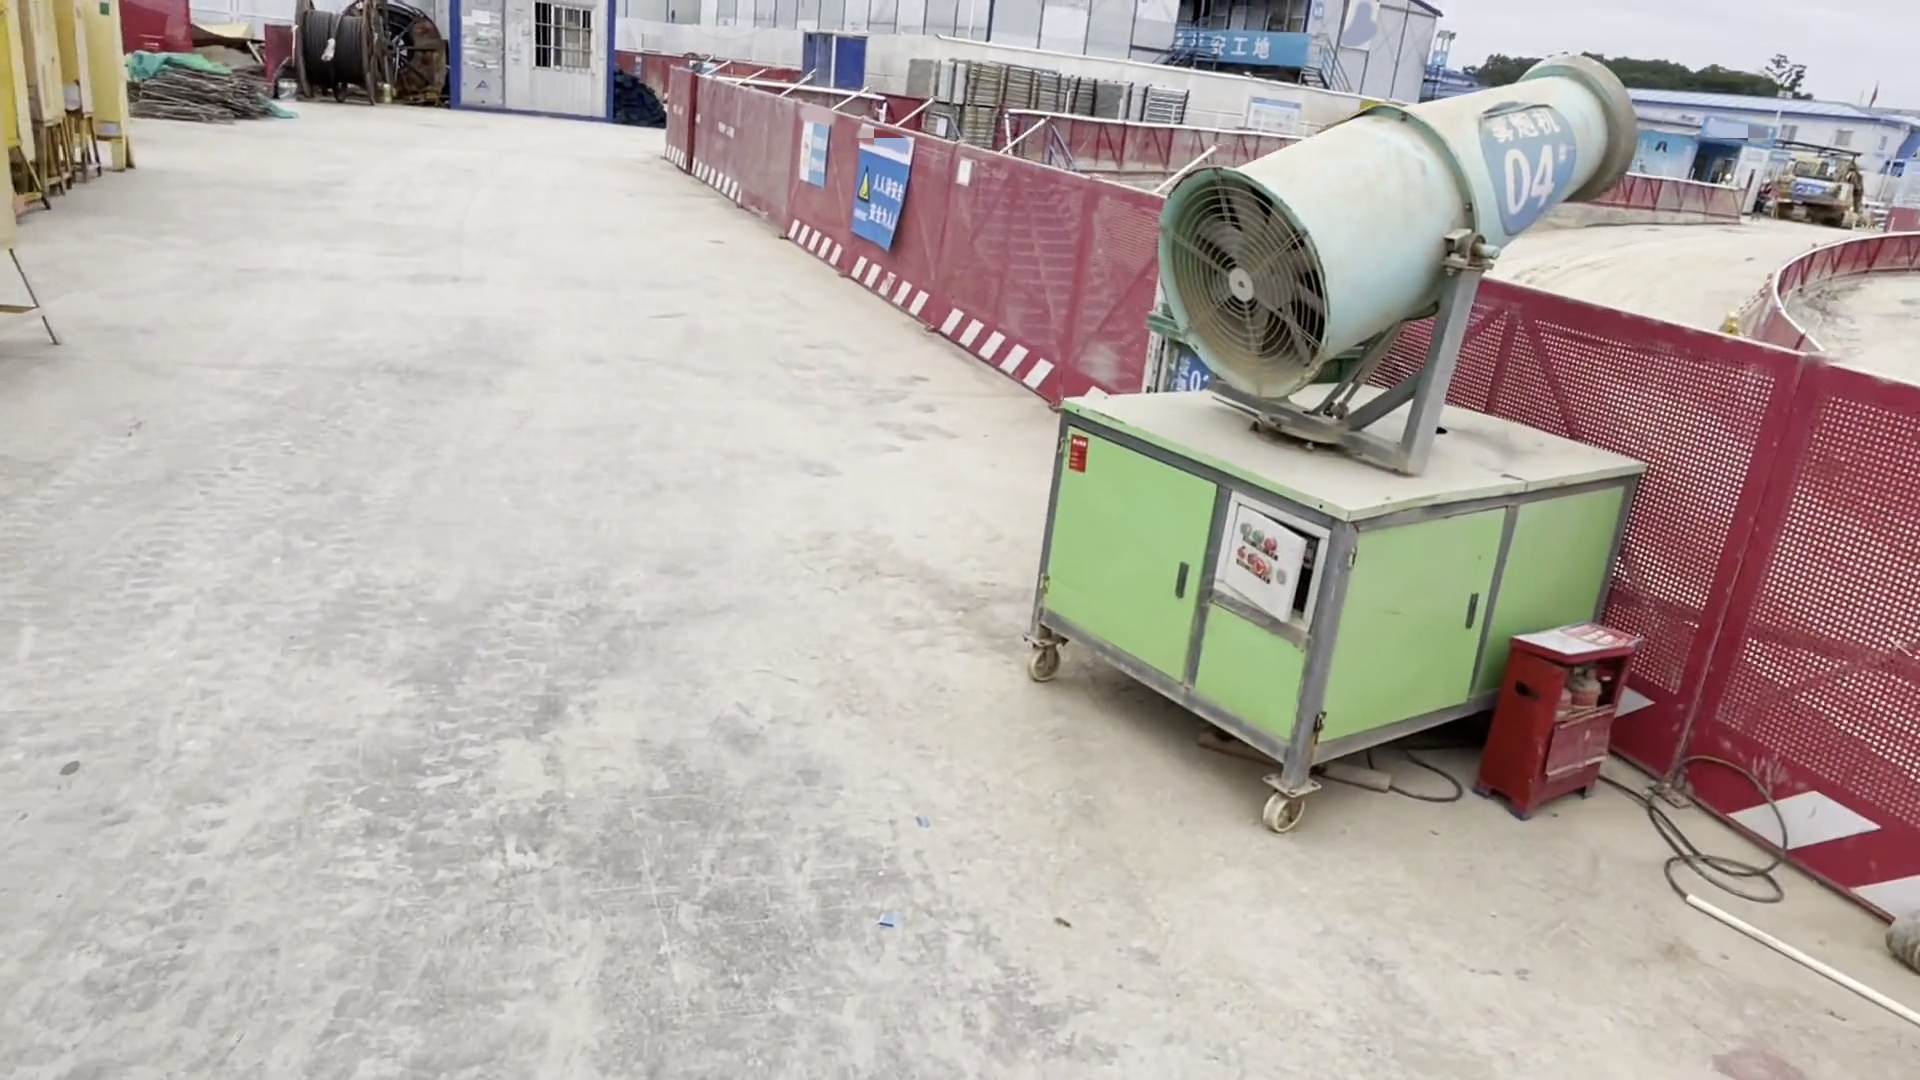fence: (1478, 287, 1920, 934), (663, 63, 927, 349), (931, 138, 1160, 407)
slogan: (856, 164, 911, 237)
